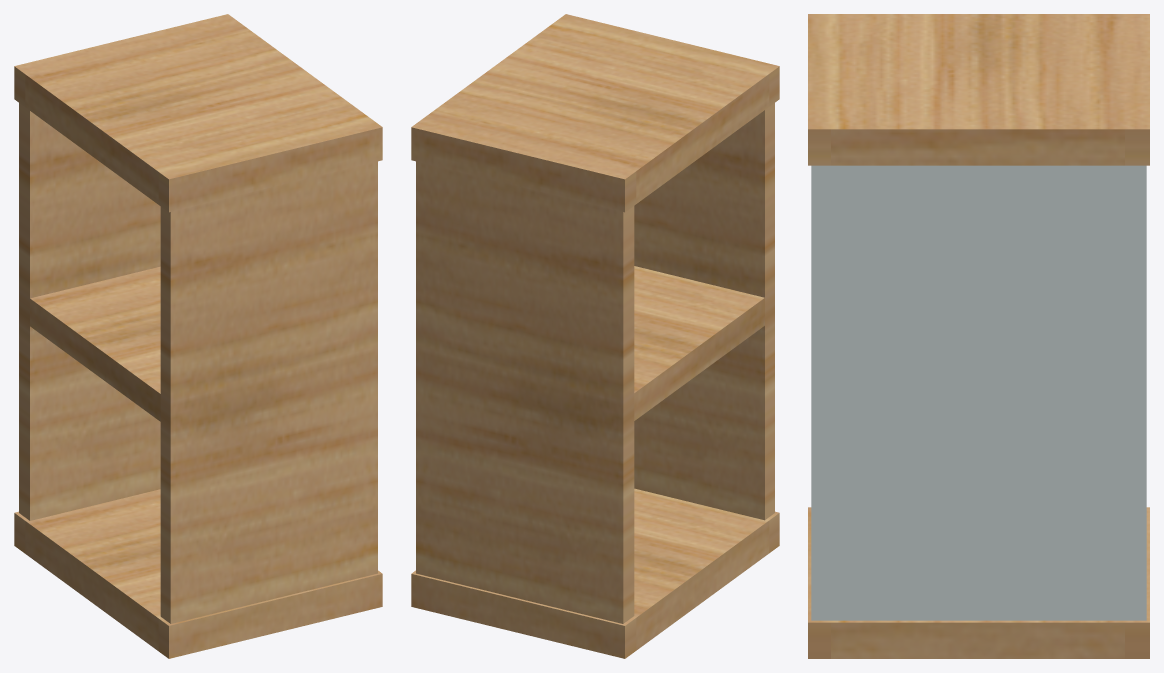
File: wshelf_small.fbx
The picture shows the model from 3 angles, left to right: view 1: azimuth 30°, elevation 25°; view 2: azimuth 150°, elevation 25°; view 3: azimuth 270°, elevation 25°; orthographic projection. The views are drawn at different scales.
Visible parts, largest first — view 1: polySurface108; view 2: polySurface108; view 3: polySurface108.
Part boxes in pixels (x1,y1,x2,y2): polySurface108: (14,14,382,658); polySurface108: (411,14,779,658); polySurface108: (808,14,1149,658).
Bounding box in the file's own units: 37.79 × 80.97 × 47.35.
